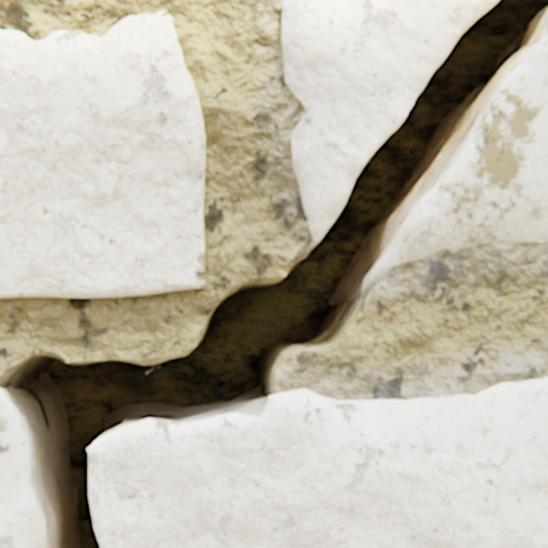brick: (0, 13, 206, 298)
broken_brick: (88, 377, 547, 547), (281, 0, 498, 243), (367, 32, 547, 288), (0, 387, 47, 547)
crack: (2, 0, 547, 547)
